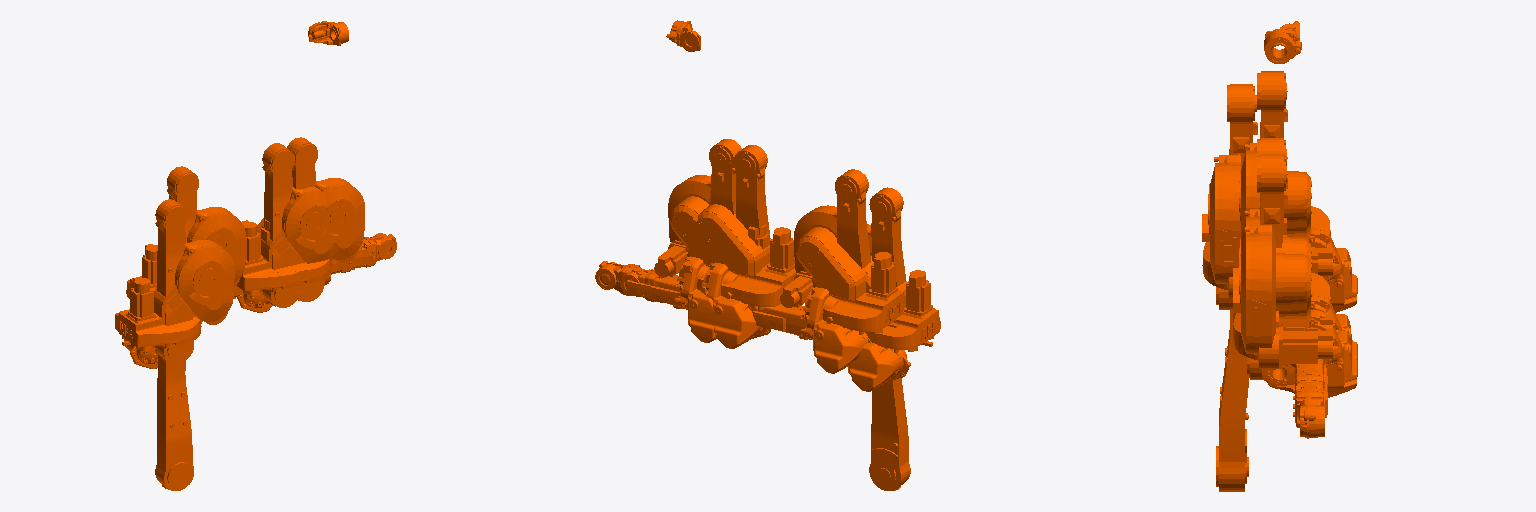
robot.urdf — robot_irb1660_id:
<?xml version="1.0" ?>
<!-- =================================================================================== -->
<!-- |    This document was autogenerated by xacro from [local-path]/ros_robot_calib/src/robot_irb1660_id/urdf/robot_irb1600_macro.urdf | -->
<!-- |    EDITING THIS FILE BY HAND IS NOT RECOMMENDED, !!! LESS speed                                 | -->
<!-- =================================================================================== -->
<robot name="robot_irb1660_id" xmlns:xacro="http://ros.org/wiki/xacro">
  <!-- robot link list -->
  <link name="base_link">
    <visual>
      <origin rpy="0 0 0" xyz="0 0 0"/>
      <geometry>
        <mesh filename="package://robot_irb1660_id/meshes/base_link_bin.stl"/>
      </geometry>
      <material name="abb_orange">
        <color rgba="1 0.43 0 1"/>
      </material>
    </visual>
    <collision>
      <geometry>
        <mesh filename="package://robot_irb1660_id/meshes/base_link_bin.stl"/>
      </geometry>
      <material name="yellow">
        <color rgba="0 1 1 1"/>
      </material>
    </collision>
  </link>
  <link name="link_1">
    <visual>
      <origin rpy="0 0 0" xyz="0 0 0"/>
      <geometry>
        <mesh filename="package://robot_irb1660_id/meshes/link_1_bin_zeroed.stl"/>
      </geometry>
      <material name="abb_orange"/>
    </visual>
    <collision>
      <origin rpy="0 0 0" xyz="0 0 0"/>
      <geometry>
        <mesh filename="package://robot_irb1660_id/meshes/link_1_bin_zeroed.stl"/>
      </geometry>
      <material name="yellow"/>
    </collision>
  </link>
  <link name="link_2">
    <visual>
      <origin rpy="0 0 0" xyz="0 0 0"/>
      <geometry>
        <mesh filename="package://robot_irb1660_id/meshes/link_2_bin_zeroed.stl"/>
      </geometry>
      <material name="abb_orange"/>
    </visual>
    <collision>
      <origin rpy="0 0 0" xyz="0 0 0"/>
      <geometry>
        <mesh filename="package://robot_irb1660_id/meshes/link_2_bin_zeroed.stl"/>
      </geometry>
      <material name="yellow"/>
    </collision>
  </link>
  <link name="link_3">
    <visual>
      <origin rpy="0 0 0" xyz="0 0 0"/>
      <geometry>
        <mesh filename="package://robot_irb1660_id/meshes/link_3_bin_zeroed.stl"/>
      </geometry>
      <material name="abb_orange"/>
    </visual>
    <collision>
      <origin rpy="0 0 0" xyz="0 0 0"/>
      <geometry>
        <mesh filename="package://robot_irb1660_id/meshes/link_3_bin_zeroed.stl"/>
      </geometry>
      <material name="yellow"/>
    </collision>
  </link>
  <link name="link_4">
    <visual>
      <origin rpy="0 0 0" xyz="0 0 0"/>
      <geometry>
        <mesh filename="package://robot_irb1660_id/meshes/link_4_bin_zeroed.stl"/>
      </geometry>
      <material name="abb_orange"/>
    </visual>
    <collision>
      <origin rpy="0 0 0" xyz="0 0 0"/>
      <geometry>
        <mesh filename="package://robot_irb1660_id/meshes/link_4_bin_zeroed.stl"/>
      </geometry>
      <material name="yellow"/>
    </collision>
  </link>
  <link name="link_5">
    <visual>
      <origin rpy="0 0 0" xyz="0 0 0"/>
      <geometry>
        <mesh filename="package://robot_irb1660_id/meshes/link_5_bin_zeroed.stl"/>
      </geometry>
      <material name="abb_orange"/>
    </visual>
    <collision>
      <origin rpy="0 0 0" xyz="0 0 0"/>
      <geometry>
        <mesh filename="package://robot_irb1660_id/meshes/link_5_bin_zeroed.stl"/>
      </geometry>
      <material name="yellow"/>
    </collision>
  </link>
  <link name="link_6">
    <visual>
      <origin rpy="0 0 0" xyz="0 0 0"/>
      <geometry>
        <mesh filename="package://robot_irb1660_id/meshes/link_6_bin_zeroed.stl"/>
      </geometry>
      <material name="abb_orange"/>
    </visual>
    <collision>
      <origin rpy="0 0 0" xyz="0 0 0"/>
      <geometry>
        <mesh filename="package://robot_irb1660_id/meshes/link_6_bin_zeroed.stl"/>
      </geometry>
      <material name="yellow"/>
    </collision>
  </link>
  <link name="tool0"/>

  <!-- camera link list -->

  <link name="camera_link">
  <visual>
    <origin rpy="0 0 0" xyz="0 0 0"/>
    <geometry>
      <box size="0.05 0.05 0.05"/>
    </geometry>
    </visual>
    <material name="Cyan">
      <color rgba="0 1.0 1.0 1.0"/>
    </material>
  </link>
  <link name="camera_optical_frame">
  <visual>
      <origin rpy="0 0 0" xyz="0.0 0.0 0"/>
      <geometry>
        <sphere radius="0.0005"/>
      </geometry>
    </visual>
  </link>

  <!-- end of link list -->

  <!-- robot joint list -->
 
  <joint name="joint_1" type="revolute">
    <origin rpy="0 0 0" xyz="0 0 0.124"/>
    <parent link="base_link"/>
    <child link="link_1"/>
    <axis xyz="0 0 1"/>
    <limit effort="0" lower="-3.14159" upper="3.14159" velocity="3.14159"/>
  </joint>
  <joint name="joint_2" type="revolute">
    <origin rpy="0 0 0" xyz="0.15 -0.107 0.3625"/>
    <parent link="link_1"/>
    <child link="link_2"/>
    <axis xyz="0 1 0"/>
    <limit effort="0" lower="-1.5708" upper="2.61799" velocity="3.14159"/>
  </joint>
  <joint name="joint_3" type="revolute">
    <origin rpy="0 0 0" xyz="0 0 0.7"/>
    <parent link="link_2"/>
    <child link="link_3"/>
    <axis xyz="0 1 0"/>
    <limit effort="0" lower="-4.15388" upper="1.37881" velocity="3.14159"/>
  </joint>
  <joint name="joint_4" type="revolute">
    <origin rpy="0 0 0" xyz="0.128 0.107 0.108"/>
    <parent link="link_3"/>
    <child link="link_4"/>
    <axis xyz="1 0 0"/>
    <limit effort="0" lower="-3.05433" upper="3.05433" velocity="5.58505"/>
  </joint>
  <joint name="joint_5" type="revolute">
    <origin rpy="0 0 0" xyz="0.55 0 0"/>
    <parent link="link_4"/>
    <child link="link_5"/>
    <axis xyz="0 1 0"/>
    <limit effort="0" lower="-2.0944" upper="2.0944" velocity="6.28319"/>
  </joint>
  <joint name="joint_6" type="revolute">
    <origin rpy="0.0 0 0" xyz="0.135 0 0"/>
    <parent link="link_5"/>
    <child link="link_6"/>
    <axis xyz="1 0 0"/>
    <limit effort="0" lower="-6.98132" upper="6.98132" velocity="8.72665"/>
  </joint>
  <joint name="joint_6-tool0" type="fixed">
    <parent link="link_6"/>
    <child link="tool0"/>
    <origin rpy="0 0 0" xyz="0 0 0"/>
  </joint>
  
  <!-- camera joint list -->
  <joint name="camera_joint" type="fixed">
    <origin rpy="0 0 0" xyz="0 0 0.05"/>
    <parent link="link_6" />
    <child link="camera_link" />
  </joint>
  <joint name="camera_optical_joint" type="fixed">
    <origin rpy="0 0 0" xyz="0 0 0"/>
    <parent link="camera_link" />
    <child link="camera_optical_frame" />
  </joint>

  <!-- end of joint list -->
</robot>

--- Render facts (derived) ---
3 views of the same robot in one strip: view 1: azimuth 30°, elevation 25°; view 2: azimuth 150°, elevation 25°; view 3: azimuth 270°, elevation 25° (orthographic).
Robot: robot_irb1660_id — 10 links, 9 joints (6 revolute, 3 fixed); root link base_link; default pose: every joint at zero.
Links seen in each view (by area): view 1: link_3, link_5, link_6, link_4, link_2; view 2: link_4, link_5, link_6, link_3, link_2; view 3: link_6, link_4, link_3, link_2, link_5.
Link boxes in pixels (x1,y1,x2,y2): link_3: (115,199,234,368); link_5: (234,143,363,312); link_6: (261,137,396,301); link_4: (126,21,348,323); link_2: (155,350,193,490); link_4: (666,20,905,373); link_5: (620,145,795,348); link_6: (595,139,769,342); link_3: (848,187,940,391); link_2: (869,378,910,490); link_6: (1233,154,1357,438); link_4: (1239,21,1357,312); link_3: (1202,84,1257,309); link_2: (1216,309,1249,491); link_5: (1233,138,1357,405).
Size in the robot's own frame: 1.7 by 0.5425 by 2.26 metres.
Meshes: 7 distinct files referenced, 5 mesh visuals loaded (5 binary STL); not drawn: 2 (reference not matched to a file when rendering).